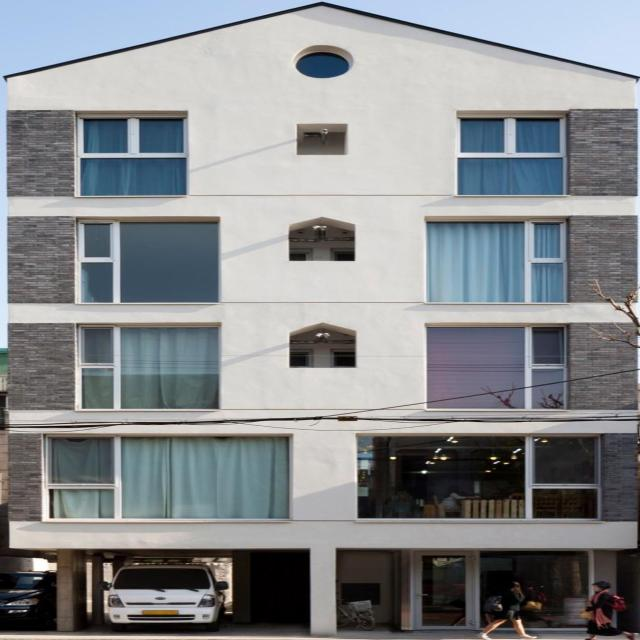door: (407, 551, 481, 631)
window: (355, 436, 604, 520), (48, 437, 288, 519), (77, 326, 218, 409), (79, 221, 220, 303), (426, 325, 563, 407), (428, 220, 565, 301), (75, 113, 185, 195), (459, 117, 569, 199)
